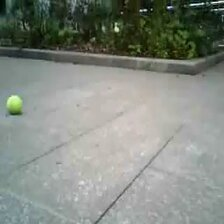tennis: (6, 95, 22, 114)
